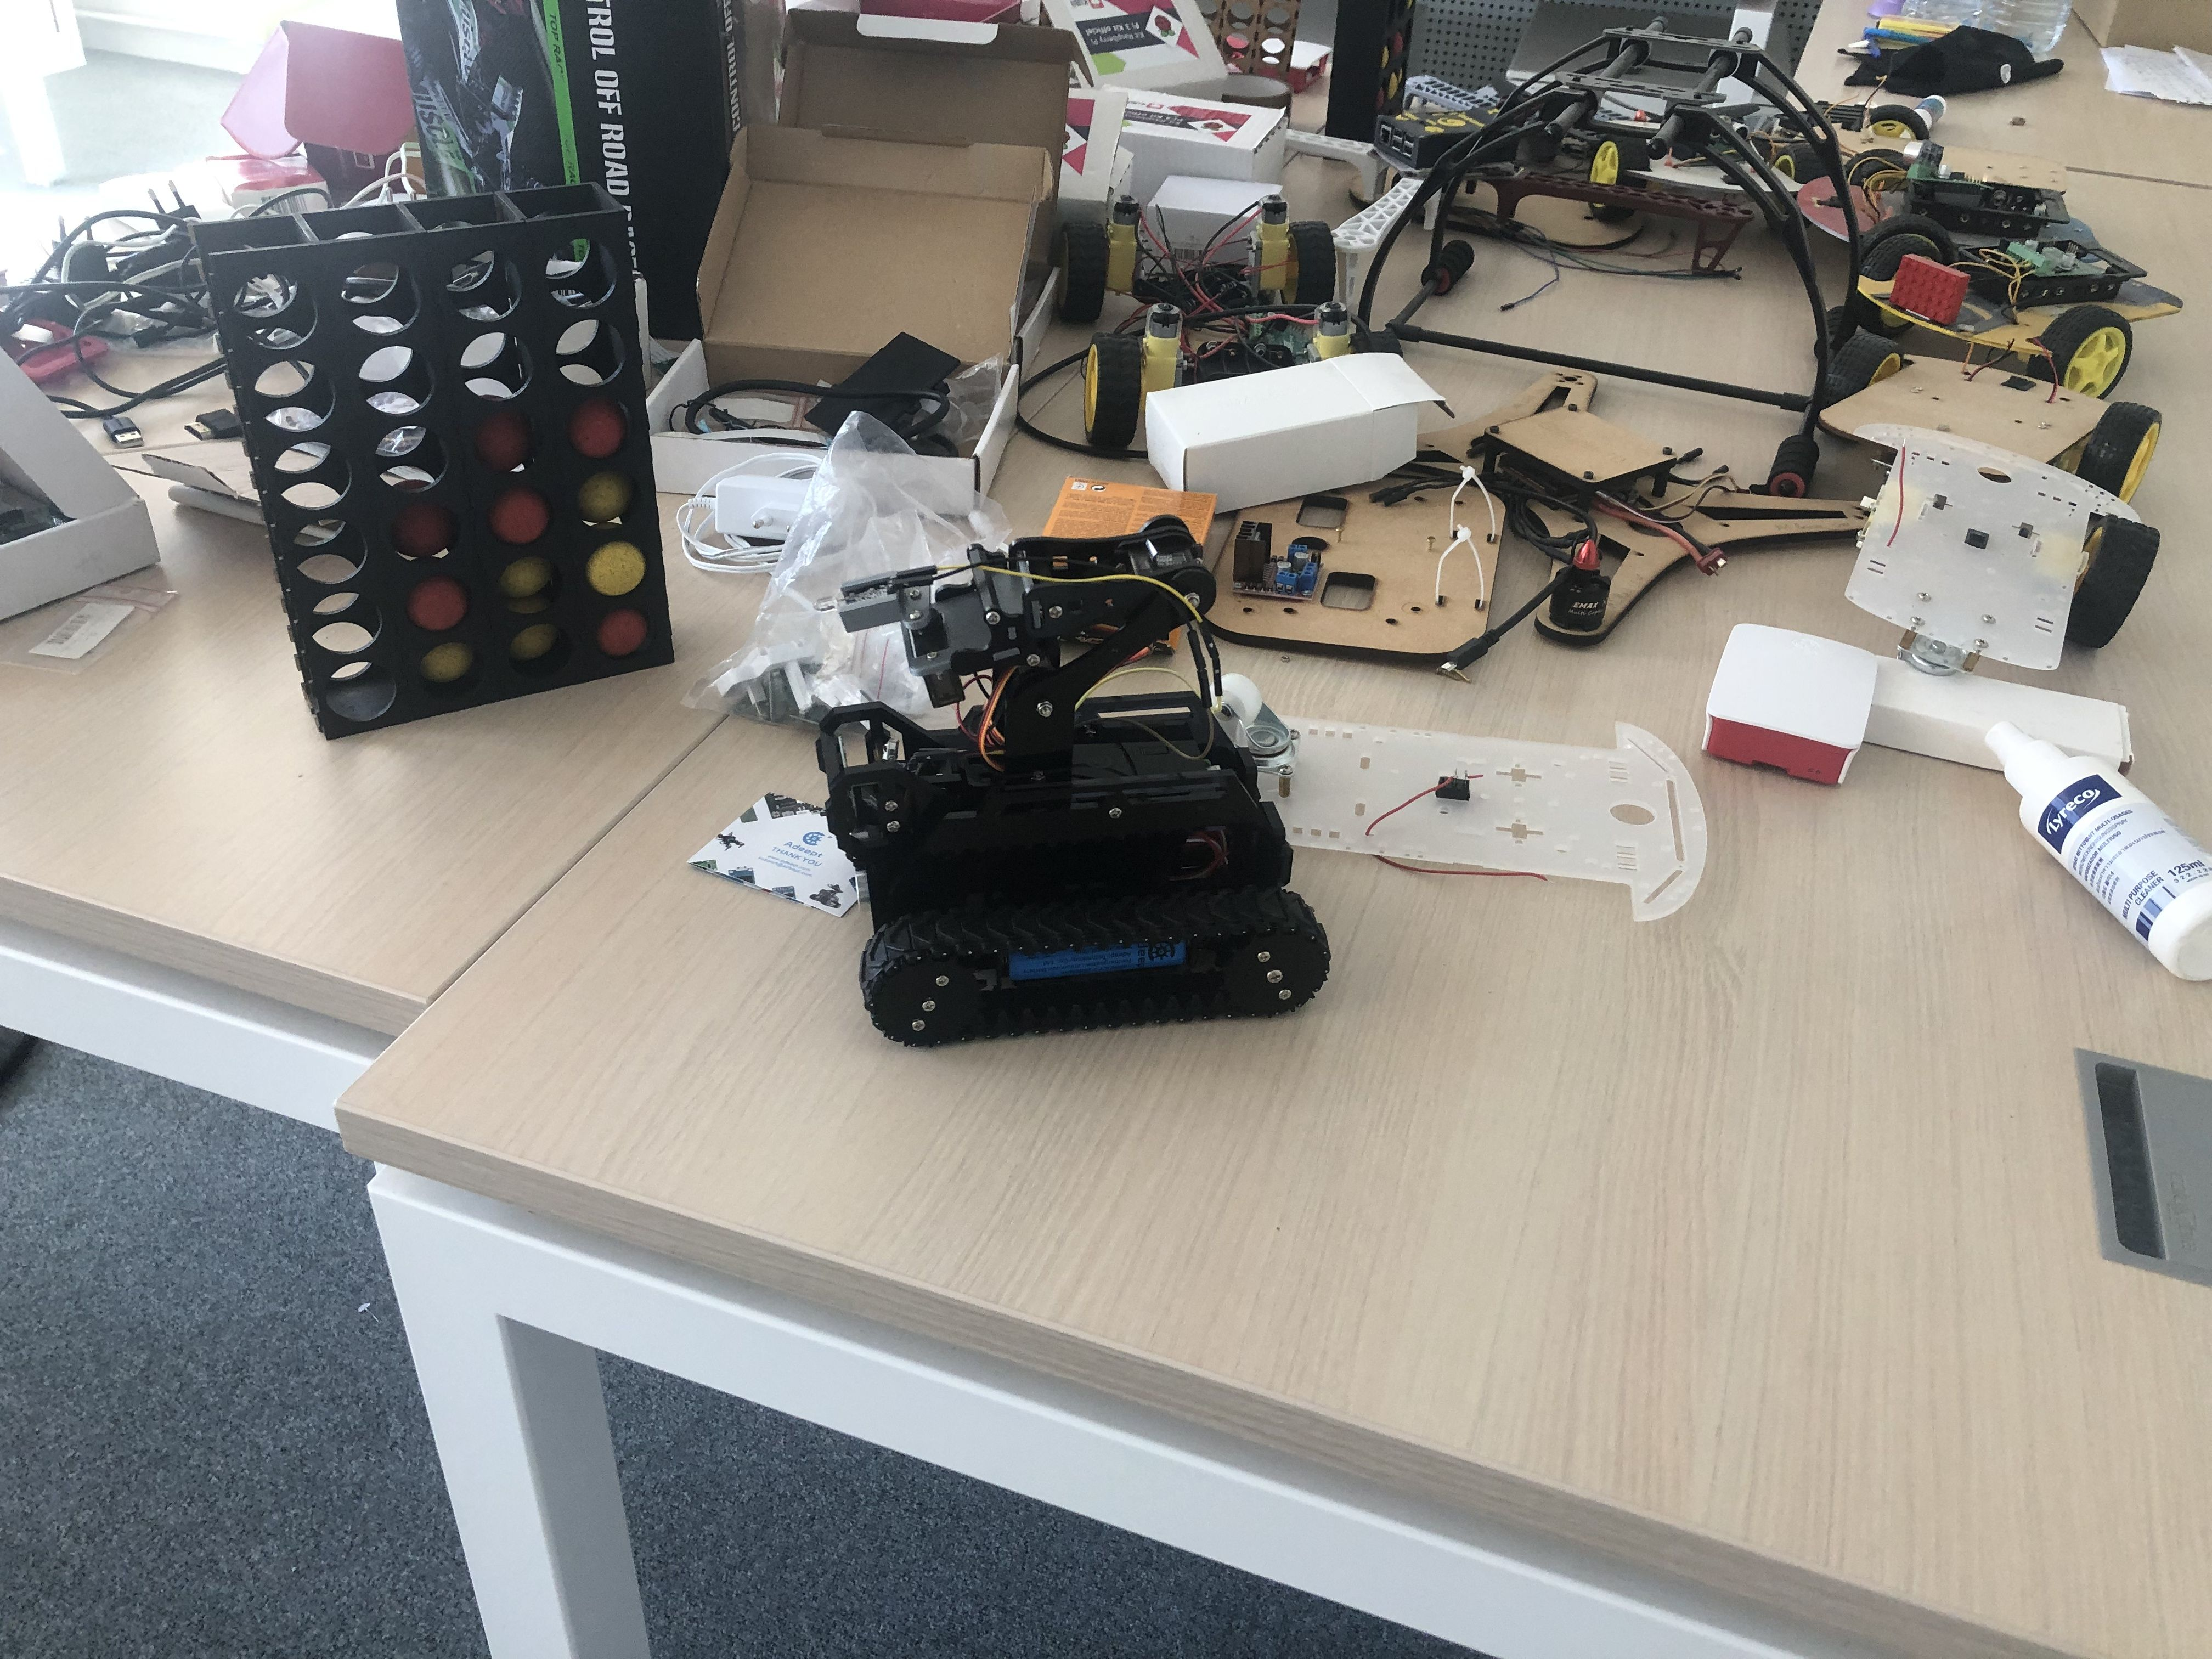rasptank: (819, 518, 1339, 1056)
